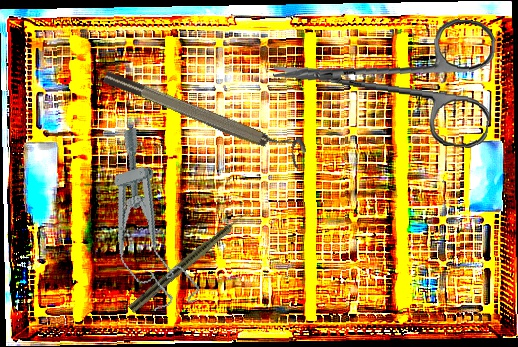Fixation Ring: (101, 58, 310, 170)
Handpiece: (127, 205, 255, 315)
Iris Scissors: (267, 3, 498, 150)
Speculum: (85, 123, 203, 319)
